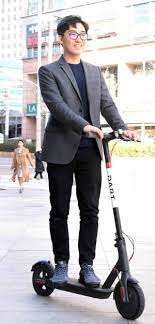kick_wheel: (113, 280, 144, 318)
